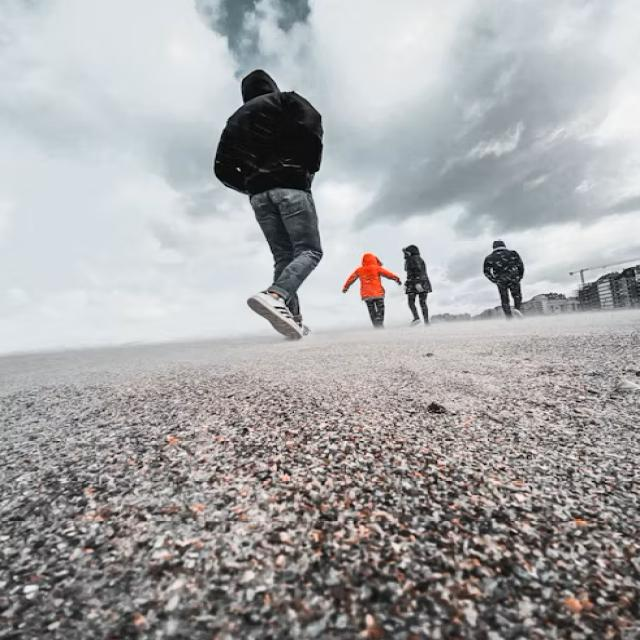Edited images: (200, 58, 374, 362)
